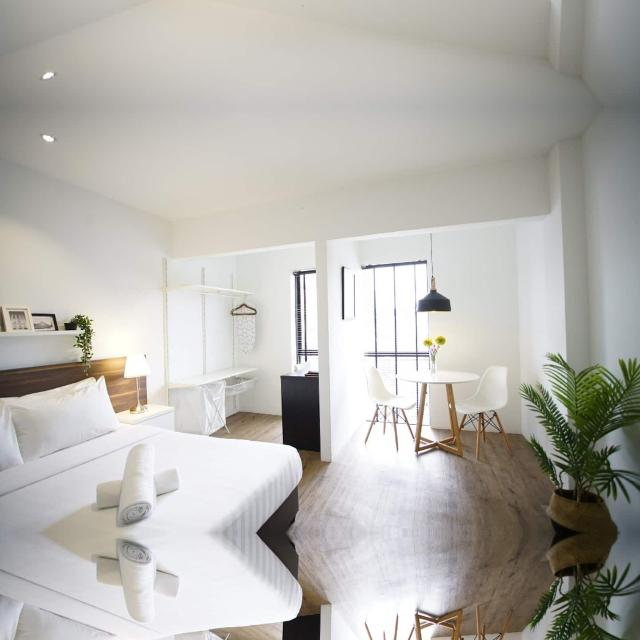chair: (457, 366, 516, 457), (357, 362, 418, 447), (461, 608, 516, 640), (357, 618, 416, 640)
pillow: (5, 374, 120, 458), (14, 607, 120, 640)
